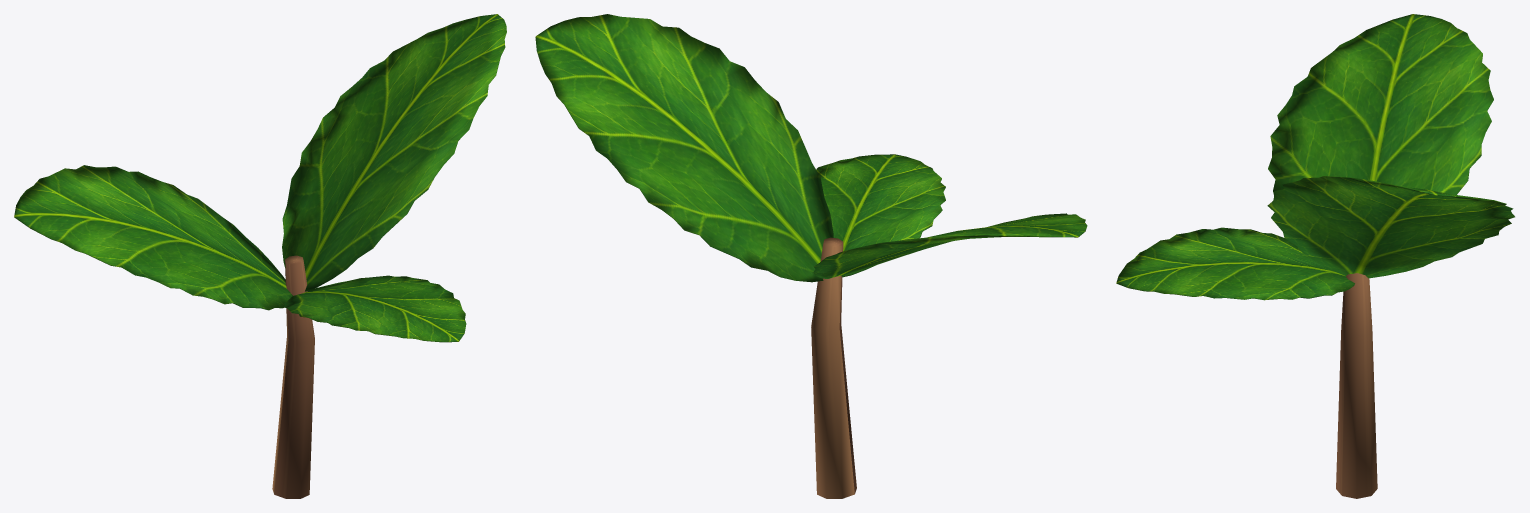
File: NP_Blackberry_Sprout_LOD1.fbx
3 views of the same model, side by side, from view 1: azimuth 30°, elevation 25°; view 2: azimuth 150°, elevation 25°; view 3: azimuth 270°, elevation 25° (orthographic). The views are drawn at different scales.
Parts seen in each view (by area): view 1: NP_Blackberry_Sprout; view 2: NP_Blackberry_Sprout; view 3: NP_Blackberry_Sprout.
Part boxes in pixels (box(x1,y1,x2,y2)): NP_Blackberry_Sprout: box(14, 14, 506, 498); NP_Blackberry_Sprout: box(535, 14, 1087, 498); NP_Blackberry_Sprout: box(1116, 14, 1514, 498).
Size of the model in its own units: 29.57 by 22.64 by 19.15.
